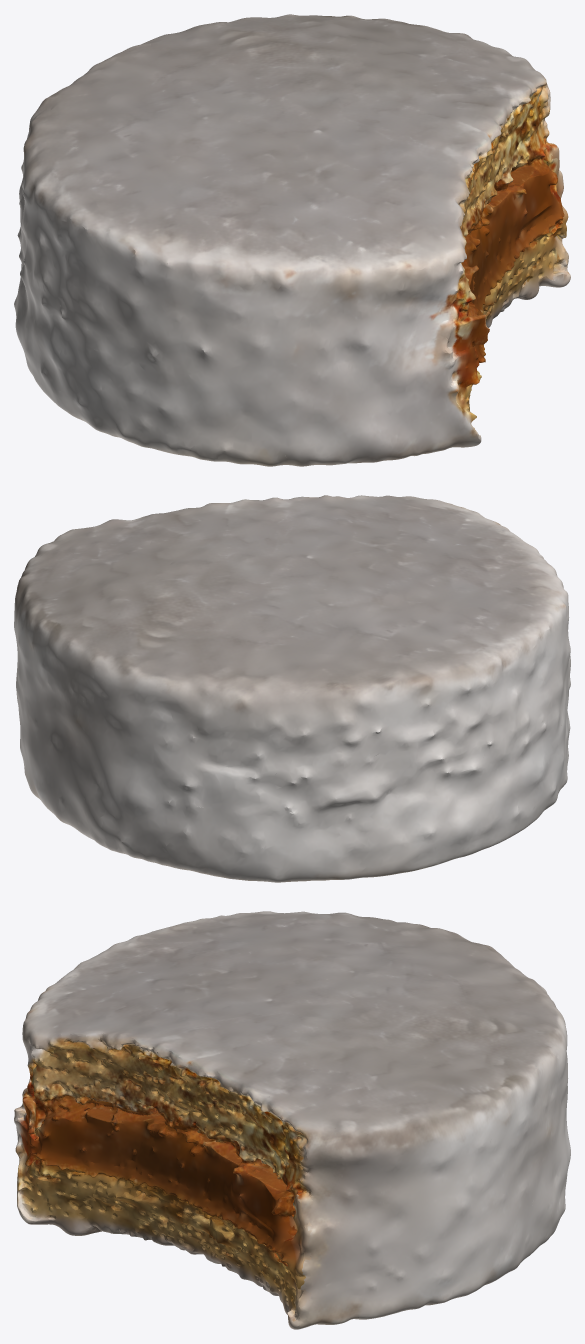
Rendered from base_basic_pbr.glb.
3 views of the same model, one above another, from view 1: azimuth 30°, elevation 25°; view 2: azimuth 150°, elevation 25°; view 3: azimuth 270°, elevation 25° (orthographic). The views are drawn at different scales.
Parts seen in each view (by area): view 1: model; view 2: model; view 3: model.
Part boxes in pixels (bbox=[...]): model: bbox=[14, 14, 570, 466]; model: bbox=[14, 495, 570, 882]; model: bbox=[14, 911, 570, 1329].
Size of the model in its own units: 1.9 by 0.8249 by 1.88.
Materials: 1 (1 with a texture image).
